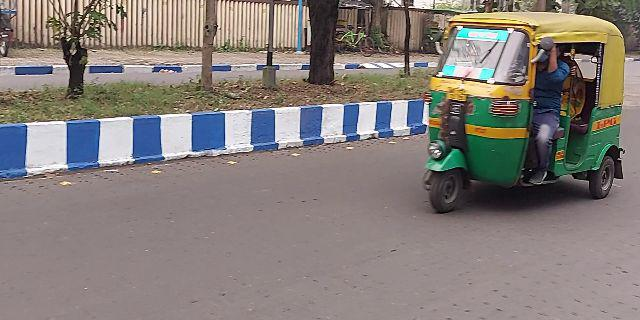Autorickshaw: (423, 15, 628, 217)
